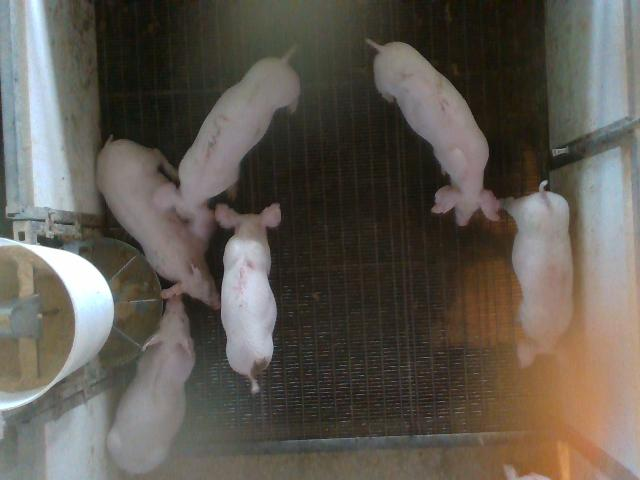pig-3: (154, 48, 300, 243)
pig-4: (500, 181, 572, 367)
pig-5: (215, 204, 280, 392)
